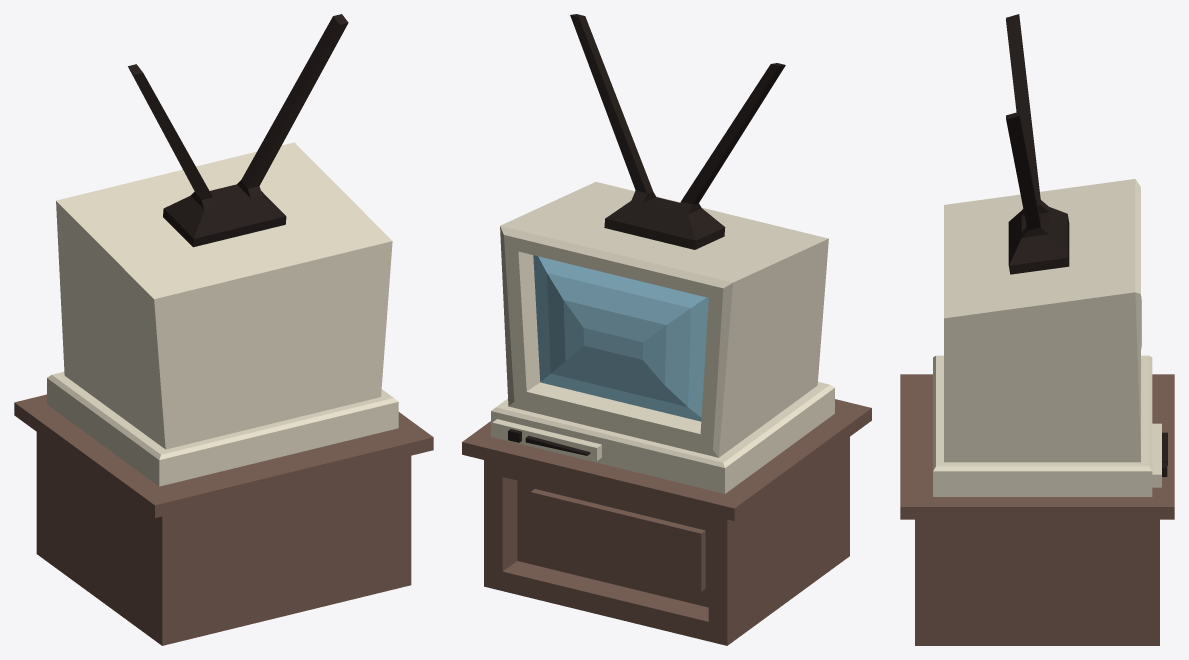
3 views of the same model, side by side, from view 1: azimuth 30°, elevation 25°; view 2: azimuth 150°, elevation 25°; view 3: azimuth 270°, elevation 25° (orthographic). The views are drawn at different scales.
Parts seen in each view (by area): view 1: Plane.009; view 2: Plane.009, Plane.013; view 3: Plane.009.
Boxes of the visible parts, box(x1,y1,x2,y2) form: Plane.009: box(14, 14, 433, 645); Plane.009: box(462, 14, 871, 645); Plane.013: box(533, 255, 708, 421); Plane.009: box(900, 14, 1174, 645).
Bounding box in the file's own units: 566 × 1040 × 495.
